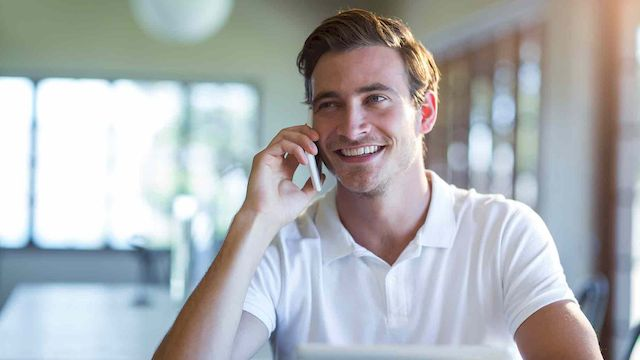phone: (288, 97, 331, 193)
talk: (250, 79, 407, 216)
